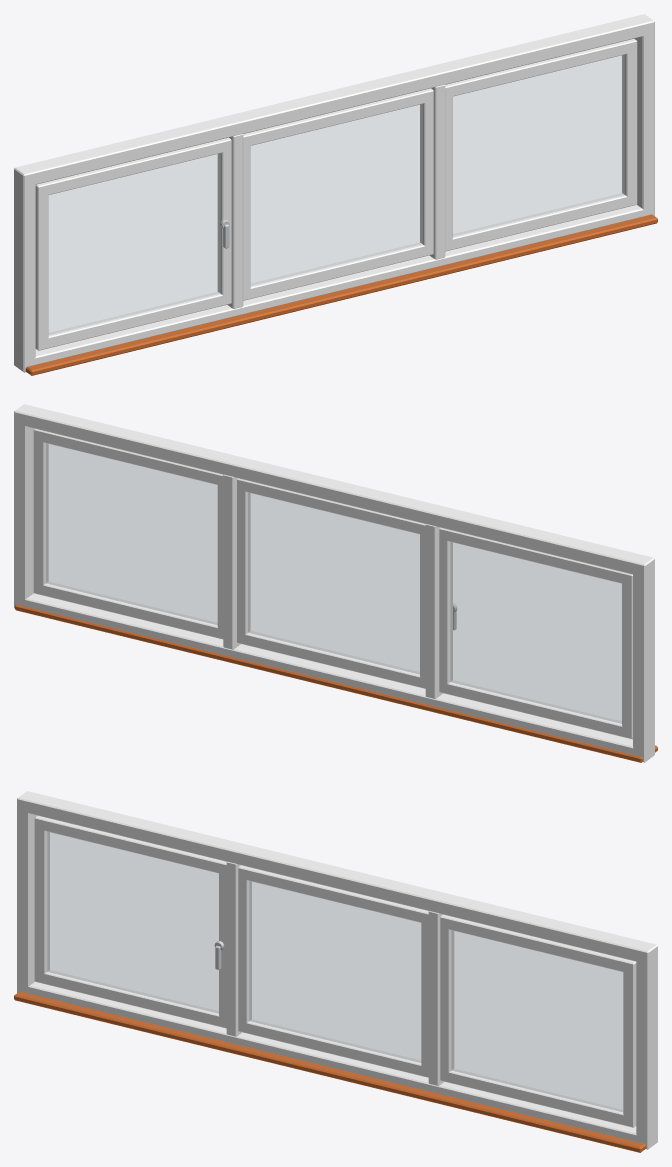
The model's file is window-strip-3000x900.glb.
3 views of the same model, one above another, from view 1: azimuth 30°, elevation 25°; view 2: azimuth 150°, elevation 25°; view 3: azimuth 330°, elevation 25° (orthographic).
Parts seen in each view (by area): view 1: window-strip-3000x900.glass, window-strip-3000x900.tint, window-strip-3000x900.accent; view 2: window-strip-3000x900.glass, window-strip-3000x900.tint, window-strip-3000x900.accent; view 3: window-strip-3000x900.glass, window-strip-3000x900.tint, window-strip-3000x900.accent.
Boxes of the visible parts, box(x1,y1,x2,y2) form: window-strip-3000x900.glass: box(49, 55, 624, 334); window-strip-3000x900.tint: box(14, 14, 654, 372); window-strip-3000x900.accent: box(25, 214, 657, 375); window-strip-3000x900.glass: box(46, 443, 621, 723); window-strip-3000x900.tint: box(14, 404, 654, 762); window-strip-3000x900.accent: box(15, 604, 657, 762); window-strip-3000x900.glass: box(47, 832, 622, 1111); window-strip-3000x900.tint: box(17, 791, 657, 1149); window-strip-3000x900.accent: box(14, 991, 646, 1152).
Size of the model in its own units: 3 by 0.9 by 0.14.
